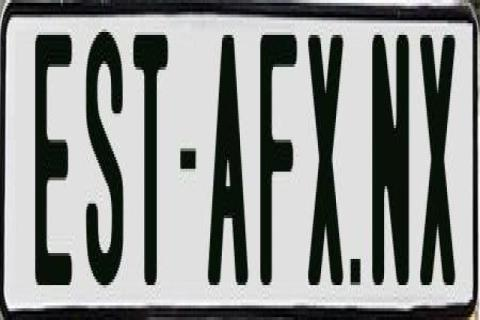A: (208, 27, 250, 286)
E: (32, 29, 74, 288)
F: (260, 29, 296, 279)
N: (372, 29, 412, 297)
S: (85, 32, 123, 288)
T: (132, 35, 166, 285)
X: (420, 26, 462, 282), (306, 32, 344, 294)
